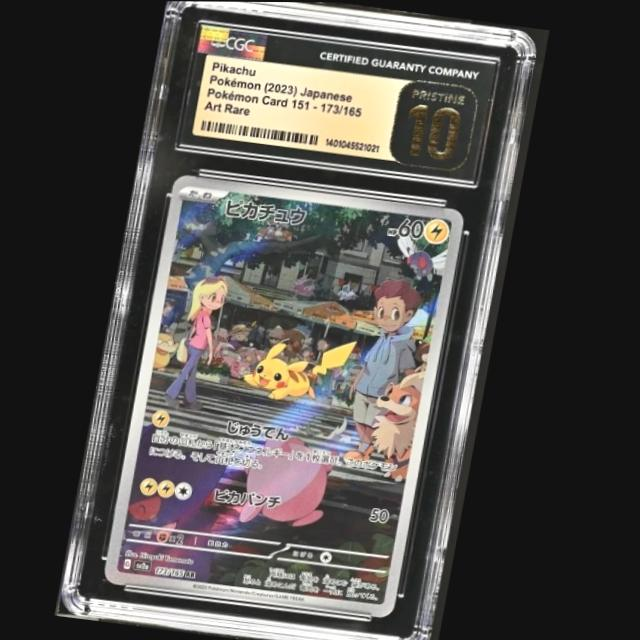card: (107, 170, 468, 619)
cgc_label: (178, 21, 495, 182)
cgc_slab: (62, 1, 538, 640)
